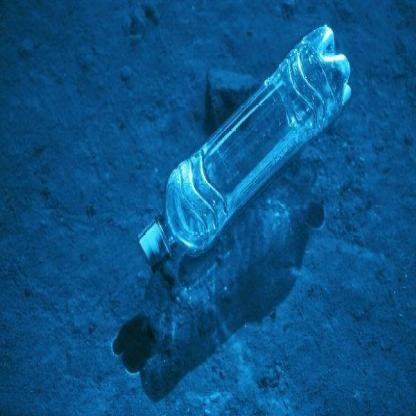pbottle: (131, 16, 359, 276)
